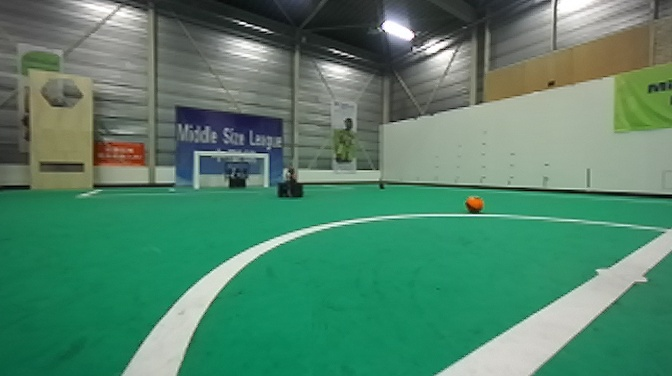ball: (465, 194, 485, 215), (378, 182, 387, 190)
goal: (191, 150, 269, 191)
robot: (274, 153, 311, 200), (222, 161, 253, 191)
